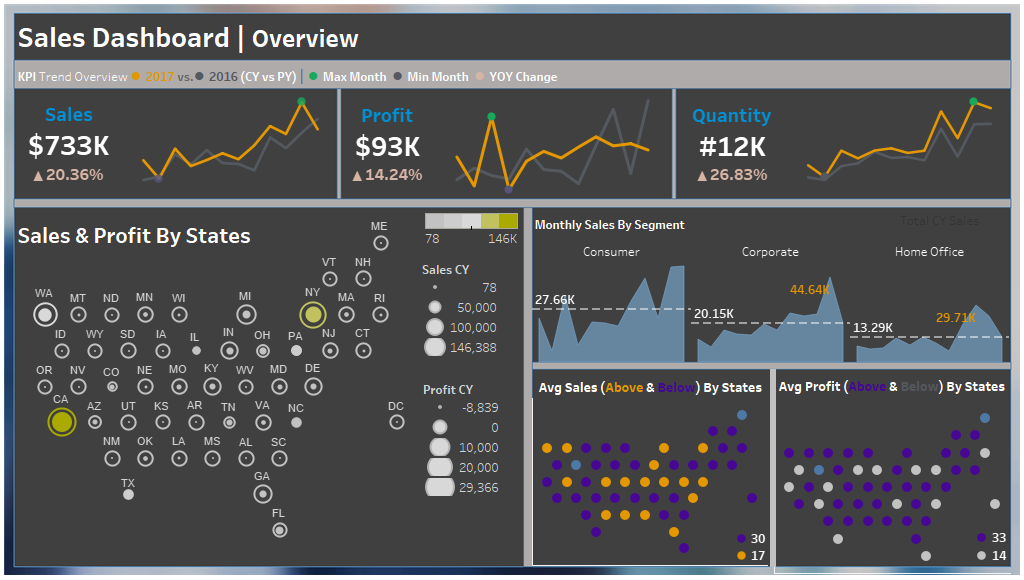

The page's visual inventory and layout, read from the dashboard file:
{"tool":"tableau","page":{"name":"Sales Dashboard | Overview","canvas":[1024,580],"ordinal":0},"visuals":[{"type":"image","param":"C:/Users/HP/Downloads/Presentation1.png","box":[0,0,1024,580]},{"type":"text","box":[15,14,386,44]},{"type":"text","box":[15,54,580,39]},{"type":"worksheet","title":"Sales KPI","mark":"Automatic","box":[15,89,108,109]},{"type":"worksheet","title":"Sales Sparkline","mark":"Automatic","rows":["Calculation_164662886465556493"],"cols":["Order Date"],"box":[123,89,214,109]},{"type":"worksheet","title":"Quantity KPI","mark":"Automatic","box":[678,89,109,110]},{"type":"worksheet","title":"Quantity Sparkline","mark":"Automatic","rows":["Profit (Min/Max month ) (copy)_164662886475366416"],"cols":["Order Date"],"box":[787,89,224,110]},{"type":"worksheet","title":"Profit KPI","mark":"Automatic","box":[341,90,94,108]},{"type":"worksheet","title":"Profit Sparkline","mark":"Automatic","rows":["Min/Max month (copy)_164662886472949774"],"cols":["Order Date"],"box":[435,90,234,108]},{"type":"worksheet","title":"Sales & Profit By States","mark":"Circle","rows":["Row"],"cols":["Column","Column"],"box":[16,207,406,359]},{"type":"text","box":[15,208,249,54]},{"type":"legend","title":"Sales & Profit By States","param":"[federated.0jjh8y41i9mj0m15pptgn0ztfhtz].[sum:Calculation_164662886454059009:qk]","box":[421,209,101,43]},{"type":"text","box":[532,209,157,30]},{"type":"parameter","param":"[Parameters].[Parameter 1]","box":[898,212,106,25]},{"type":"worksheet","title":"Monthly Sales By Segment","mark":"Area","rows":["Calculation_206602658324971527"],"cols":["Segment","Order Date"],"box":[532,241,477,121]},{"type":"legend","title":"Sales & Profit By States","param":"[federated.0jjh8y41i9mj0m15pptgn0ztfhtz].[sum:Calculation_164662886454059009:qk]","box":[421,259,98,102]},{"type":"blank","box":[770,369,6,198]},{"type":"text","box":[776,371,233,29]},{"type":"text","box":[536,372,230,30]},{"type":"legend","title":"Sales & Profit By States","param":"[federated.0jjh8y41i9mj0m15pptgn0ztfhtz].[sum:Sales CY  (copy)_16466288646019482","box":[422,379,95,123]},{"type":"worksheet","title":"Avg Sales By States","mark":"Circle","rows":["Row"],"cols":["Column"],"box":[532,398,235,167]},{"type":"worksheet","title":"Avg Profit By States","mark":"Circle","rows":["Row"],"cols":["Column"],"box":[774,401,236,172]},{"type":"worksheet","title":"Avg. Profit By State Count","mark":"Circle","rows":["Sales AVG Color (copy)_206602658307883013"],"box":[953,529,56,35]},{"type":"worksheet","title":"Avg. Sales By State Count","mark":"Circle","rows":["Calculation_206602658304299010"],"box":[715,530,53,34]}]}

Visuals, with their boxes in screenshot pixels (x1, y1, x2, y2), scaled from the page's 1024x580 canvas onto the 1024x580 screenshot:
image: BBox(0, 0, 1023, 579)
text: BBox(15, 14, 401, 58)
text: BBox(15, 54, 595, 93)
"Sales KPI" worksheet: BBox(15, 89, 123, 198)
"Sales Sparkline" worksheet: BBox(123, 89, 337, 198)
"Quantity KPI" worksheet: BBox(678, 89, 787, 199)
"Quantity Sparkline" worksheet: BBox(787, 89, 1011, 199)
"Profit KPI" worksheet: BBox(341, 90, 435, 198)
"Profit Sparkline" worksheet: BBox(435, 90, 669, 198)
"Sales & Profit By States" worksheet (Circle marks): BBox(16, 207, 422, 566)
text: BBox(15, 208, 264, 262)
"Sales & Profit By States" legend: BBox(421, 209, 522, 252)
text: BBox(532, 209, 689, 239)
parameter: BBox(898, 212, 1004, 237)
"Monthly Sales By Segment" worksheet (Area marks): BBox(532, 241, 1009, 362)
"Sales & Profit By States" legend: BBox(421, 259, 519, 361)
blank: BBox(770, 369, 776, 567)
text: BBox(776, 371, 1009, 400)
text: BBox(536, 372, 766, 402)
"Sales & Profit By States" legend: BBox(422, 379, 517, 502)
"Avg Sales By States" worksheet (Circle marks): BBox(532, 398, 767, 565)
"Avg Profit By States" worksheet (Circle marks): BBox(774, 401, 1010, 573)
"Avg. Profit By State Count" worksheet (Circle marks): BBox(953, 529, 1009, 564)
"Avg. Sales By State Count" worksheet (Circle marks): BBox(715, 530, 768, 564)
